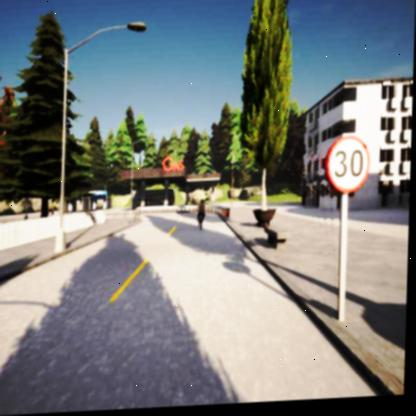motobike: (197, 201, 208, 234)
